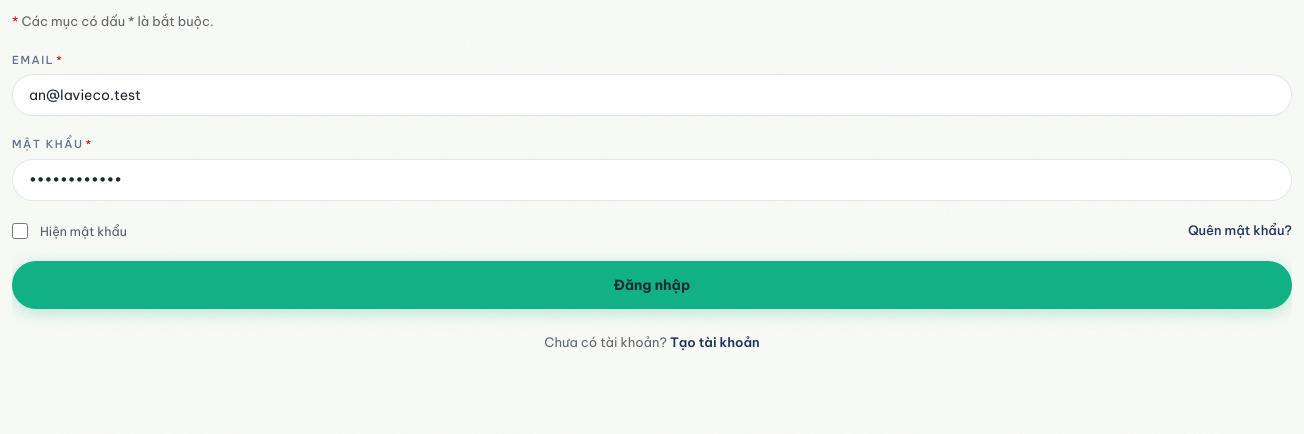
Test: LoginForm with browser autofill › shows only the server's answer: no field errors from a re-check while sending
Click the submit button at (652, 285), box [12,261,1292,309]
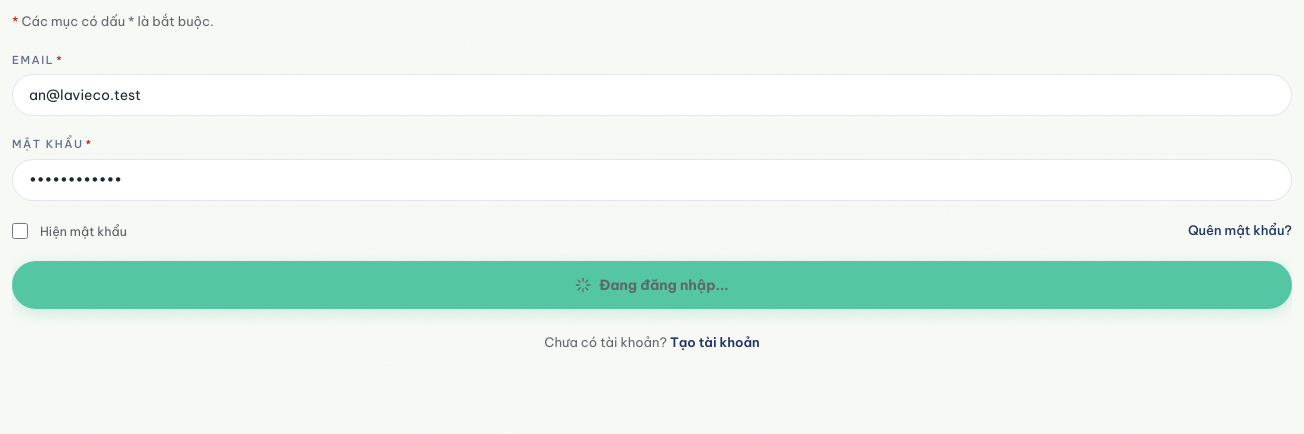
Clear the form at (652, 160), box [12,12,1292,309]
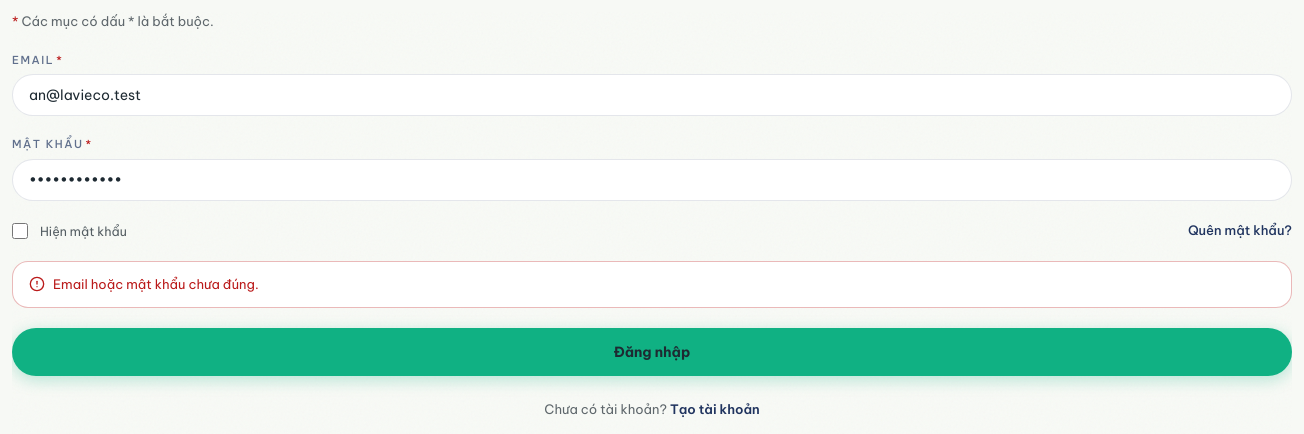
Expected: the text "Email hoặc mật khẩu chưa đúng." is shown, [53,274,259,295]
